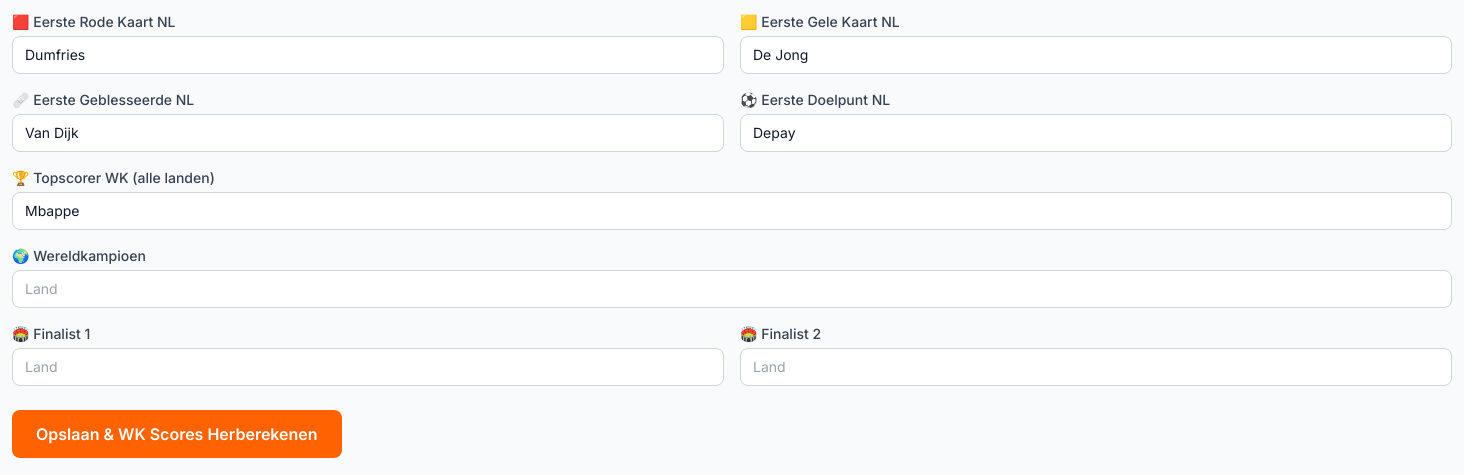
Test: AdminWkIncidentsForm › shows success status after save
The image size is (1464, 475).
Click the button at coordinates (177, 434), box [12, 410, 342, 458]
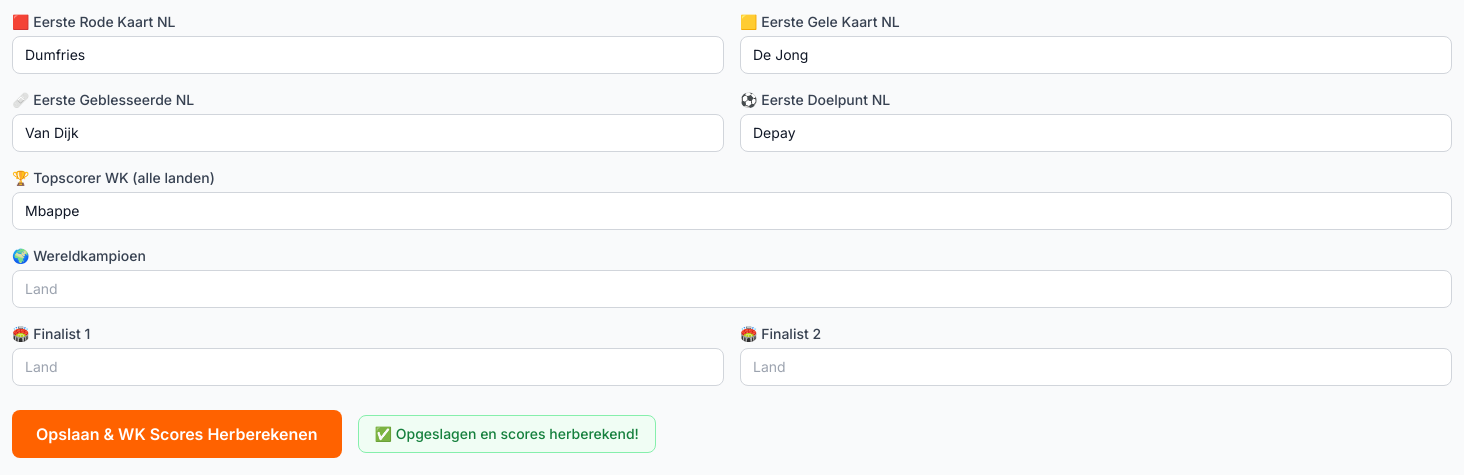
Check: the text "✅ Opgeslagen en scores herberekend!" is shown, box [358, 415, 656, 453]
